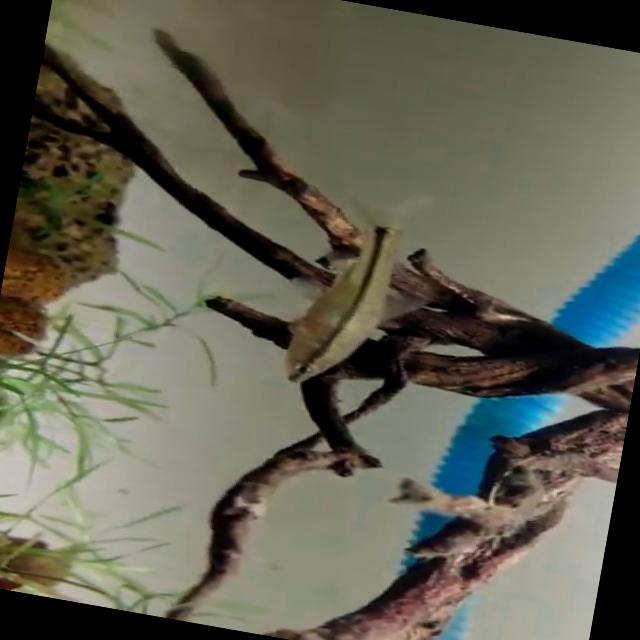Cakil Baligi: (274, 187, 438, 403)
